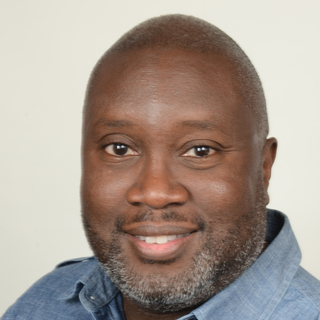eye: (173, 139, 225, 165), (97, 138, 143, 164)
